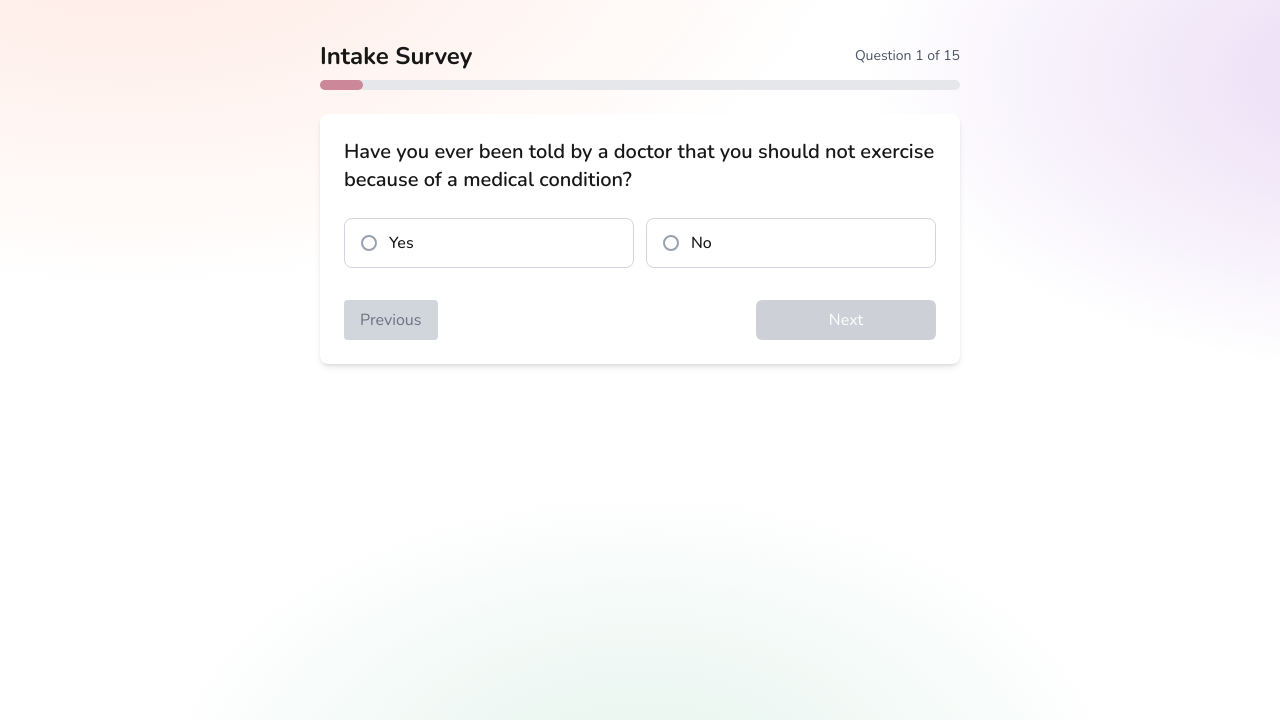
Test: SurveyPage UI controls and validation › enables Next when a required radio question is answered via segmented card
This screenshot has width=1280, height=720.
Expected: the heading "Intake Survey" is shown, top-left (320, 40), bottom-right (472, 72)
Expected: the button "Next" is disabled, top-left (756, 300), bottom-right (936, 340)
Click the radio button labelled "Yes".
click(369, 243)  # box top-left (344, 218), bottom-right (634, 268)
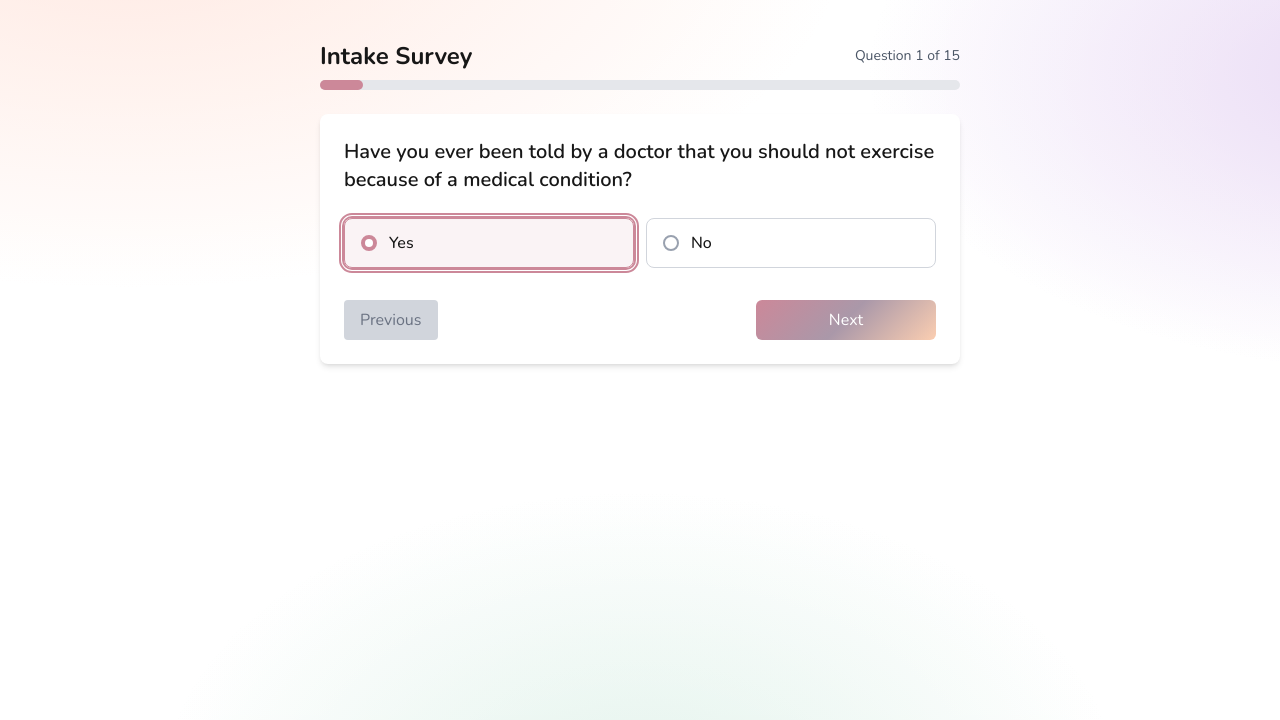
Expected: the button "Next" is enabled, top-left (756, 300), bottom-right (936, 340)
